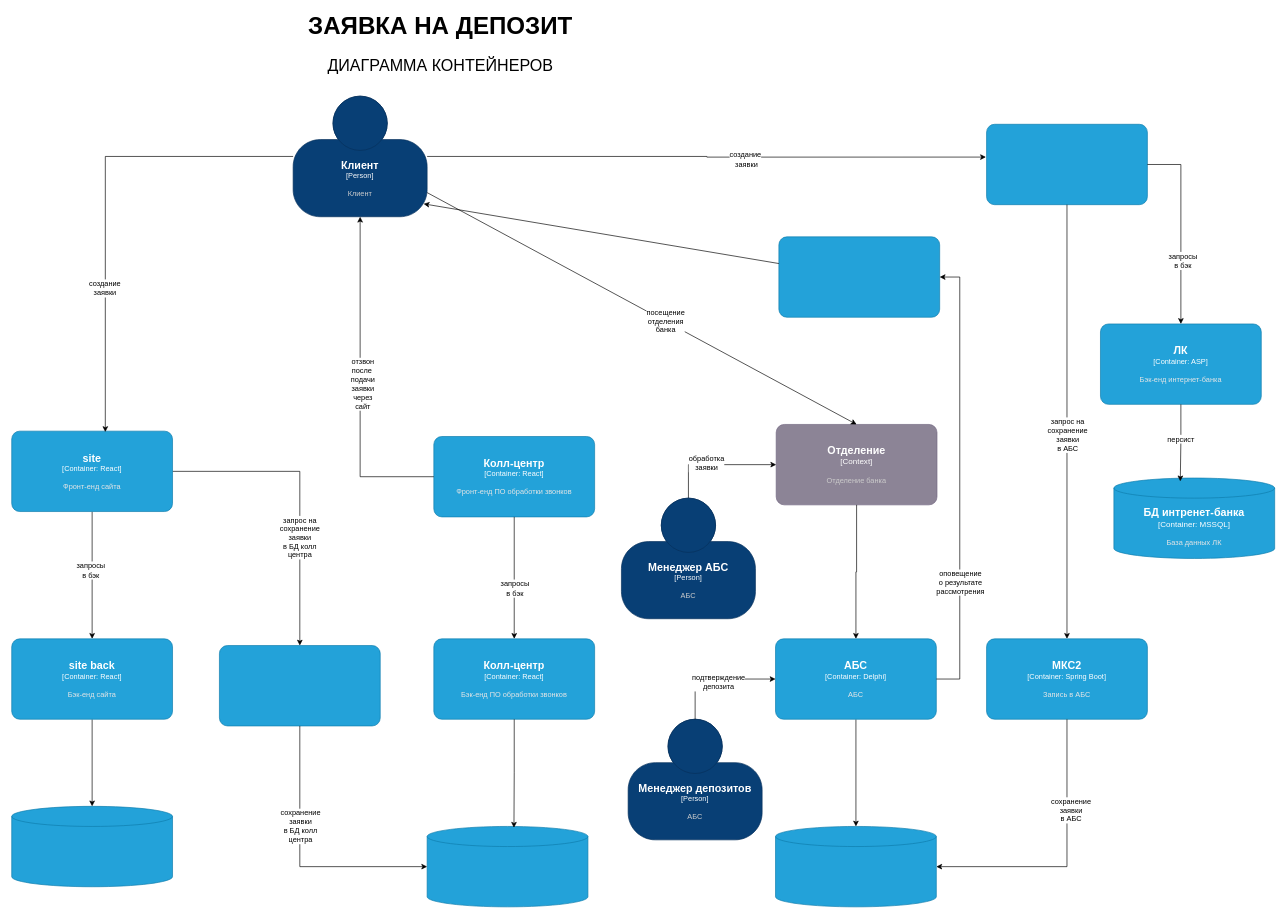
Image size: 1286x919. Some labels were removed from this diagram. Each missing label, with the centre of its shape:
"site-db [Container: ] База данных сайта" goes at point 92,846.
"БД АБС [Container: Oracle] База данных АБС" goes at point 855,866.
"БДК [Container: PostgreSQL] База данных кол-центра" goes at point 507,866.
"Личный кабинет [Context: ASP] Фронт-енд интернет-банка" goes at point 1066,164.
"МКС1 [Container: Spring Boot] Запись в колл-центр" goes at point 299,685.
"СМС-шлюз [Context: ] Рассылка оповещений" goes at point 859,276.
